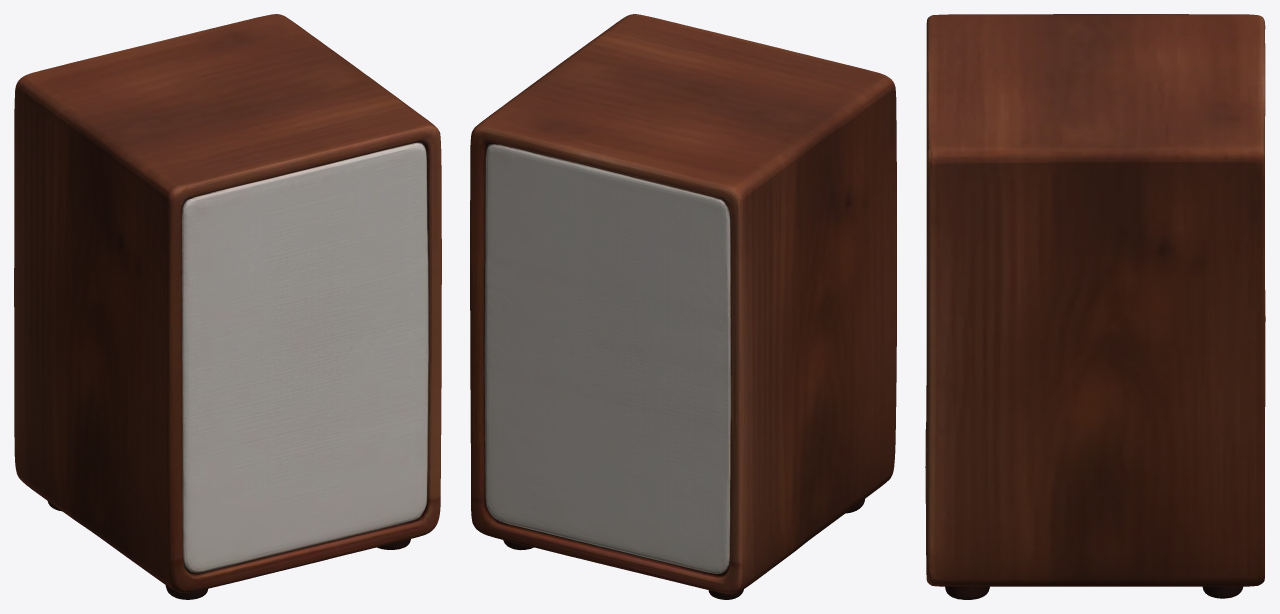
The model's file is bookshelf.glb.
3 renders of one model, left to right at view 1: azimuth 30°, elevation 25°; view 2: azimuth 150°, elevation 25°; view 3: azimuth 270°, elevation 25°, orthographic. The views are drawn at different scales.
Parts seen in each view (by area): view 1: geometry_0; view 2: geometry_0; view 3: geometry_0.
Part boxes in pixels (left/top/right/bottom): geometry_0: left=14, top=14, right=441, bottom=599; geometry_0: left=470, top=14, right=896, bottom=599; geometry_0: left=925, top=14, right=1265, bottom=599.
Size of the model in its own units: 0.6746 by 1 by 0.6739.
Materials: 1 (1 with a texture image).
